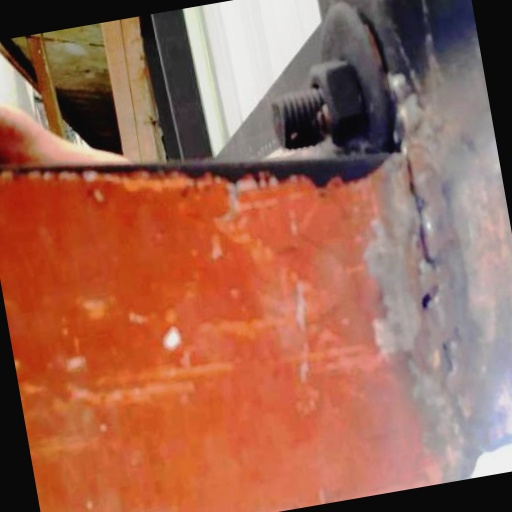crack: (388, 141, 504, 459)
